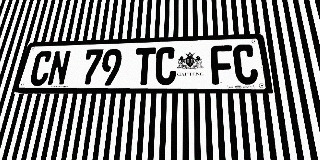7: (79, 49, 104, 86)
9: (99, 48, 123, 85)
C: (232, 44, 259, 84), (28, 51, 54, 86), (155, 47, 176, 85)
F: (210, 45, 235, 85)
N: (46, 50, 71, 86)
T: (133, 47, 156, 85)
